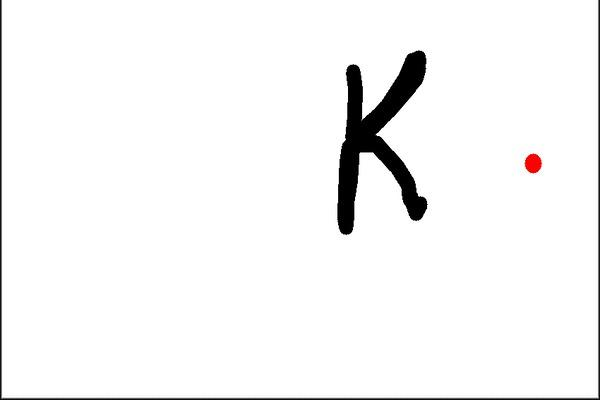K: (329, 45, 436, 240)
